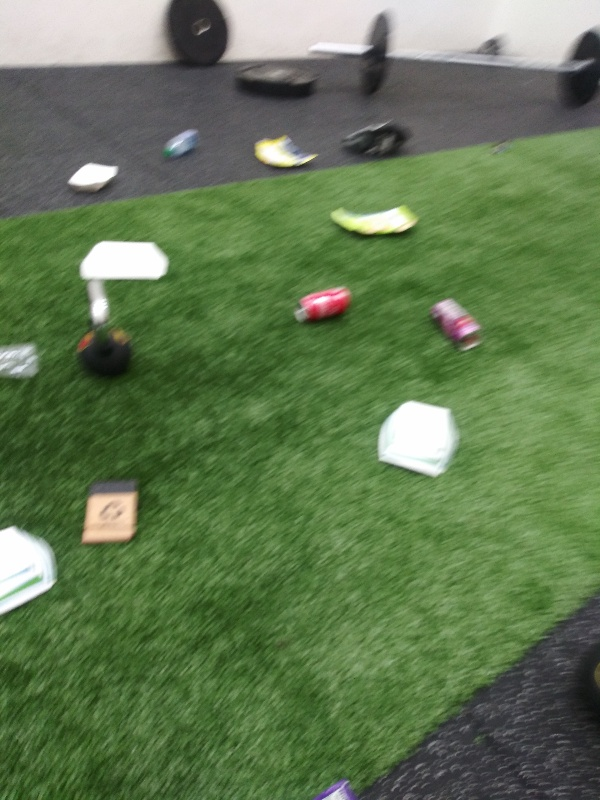bag: (325, 201, 422, 240), (247, 133, 321, 173)
bottle: (1, 337, 48, 388), (158, 126, 203, 162)
can: (425, 293, 486, 354), (292, 282, 359, 327)
plate: (372, 395, 464, 482), (1, 523, 60, 627), (75, 237, 173, 286), (64, 157, 124, 197)
